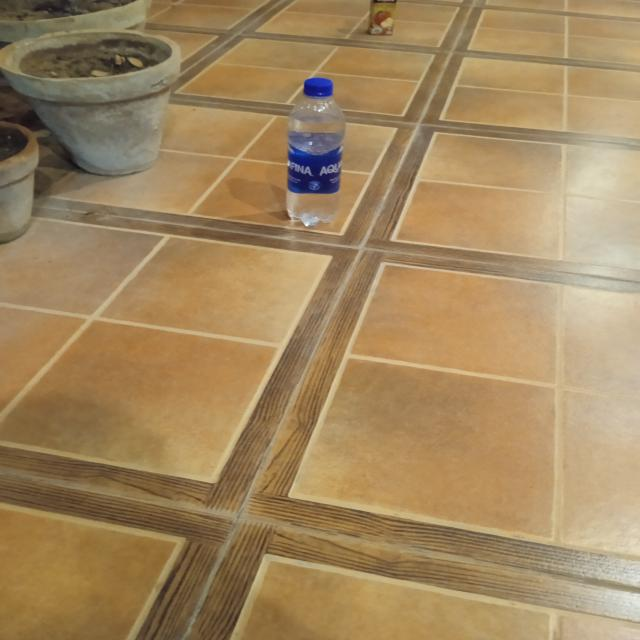Plastic: (277, 72, 351, 232)
